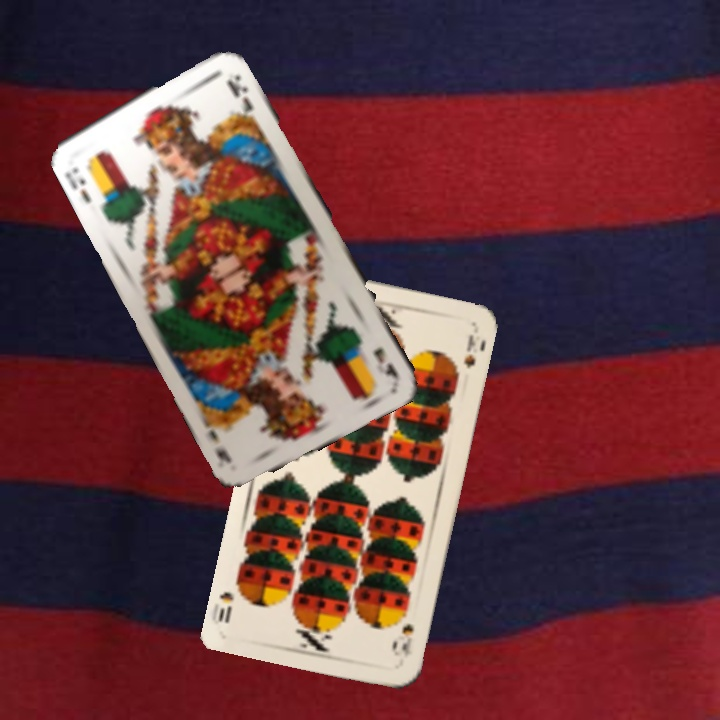EK: (63, 163, 94, 205), (369, 343, 401, 381)
S10: (397, 619, 416, 660)
